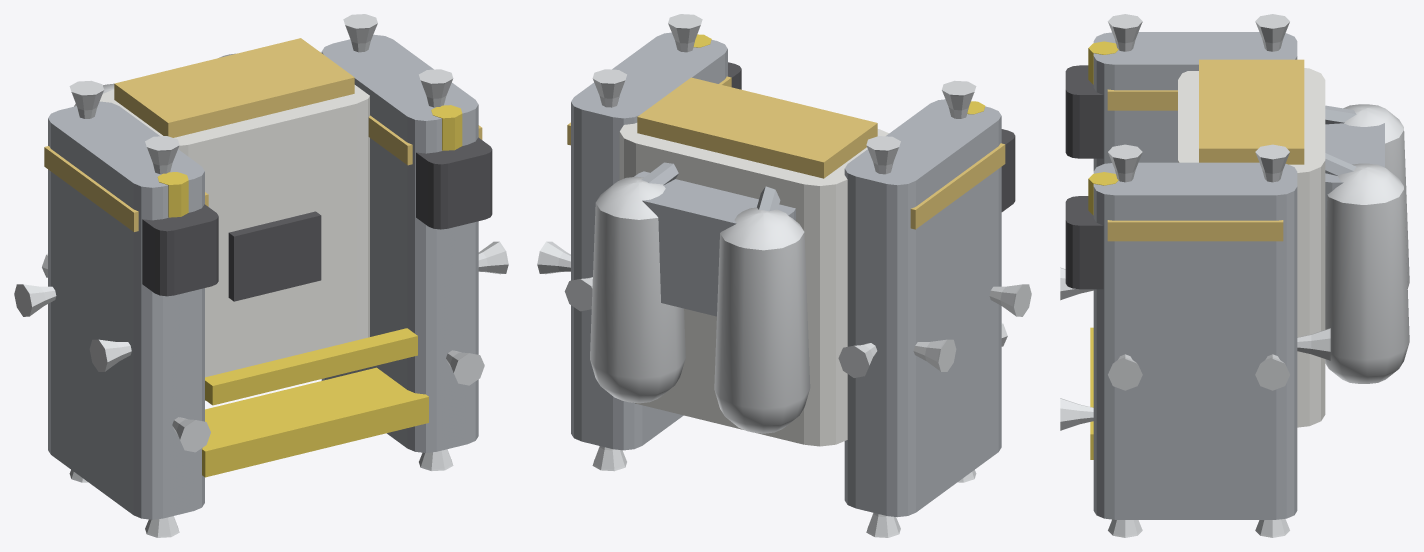
File: orbital-station-and-docking-bays-eva-manoeuvring-unit-0eca2113__24568.glb
The picture shows the model from 3 angles, left to right: view 1: azimuth 30°, elevation 25°; view 2: azimuth 150°, elevation 25°; view 3: azimuth 270°, elevation 25°; orthographic projection. The views are drawn at different scales.
Visible parts, largest first — view 1: eva-manoeuvring-unit; view 2: eva-manoeuvring-unit; view 3: eva-manoeuvring-unit.
Boxes of the visible parts, <box> form: eva-manoeuvring-unit: <box>14,14,508,537</box>; eva-manoeuvring-unit: <box>537,14,1031,537</box>; eva-manoeuvring-unit: <box>1060,14,1409,537</box>.
Size of the model in its own units: 1.29 by 1.19 by 0.995.
